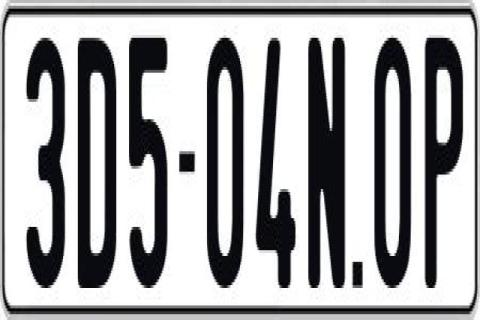0: (255, 29, 301, 297), (129, 32, 173, 296), (207, 29, 250, 282), (27, 38, 68, 300), (374, 29, 415, 288)
D: (76, 29, 118, 294)
N: (308, 32, 346, 285)
P: (424, 29, 462, 297)
